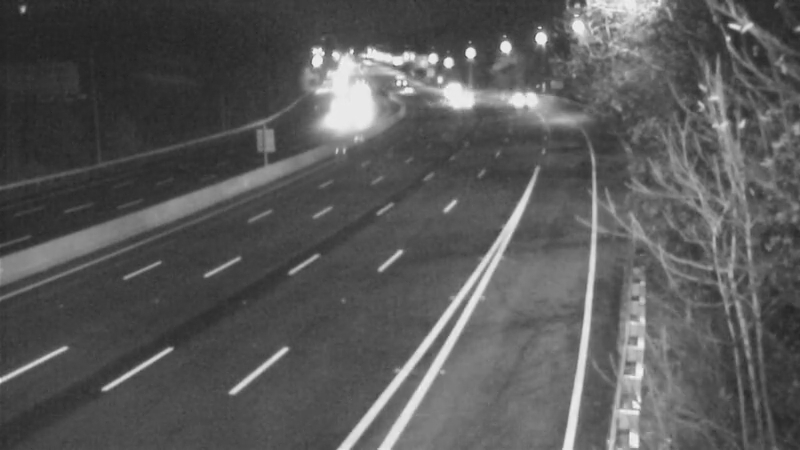vehicle: (374, 55, 424, 105), (423, 56, 473, 106), (427, 67, 477, 117), (492, 72, 542, 122), (439, 74, 489, 124), (310, 92, 360, 142)
